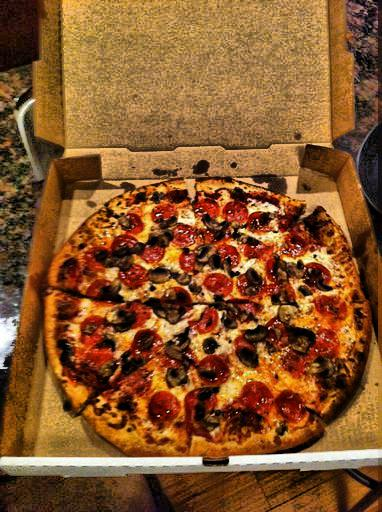pizza: (47, 167, 382, 454)
